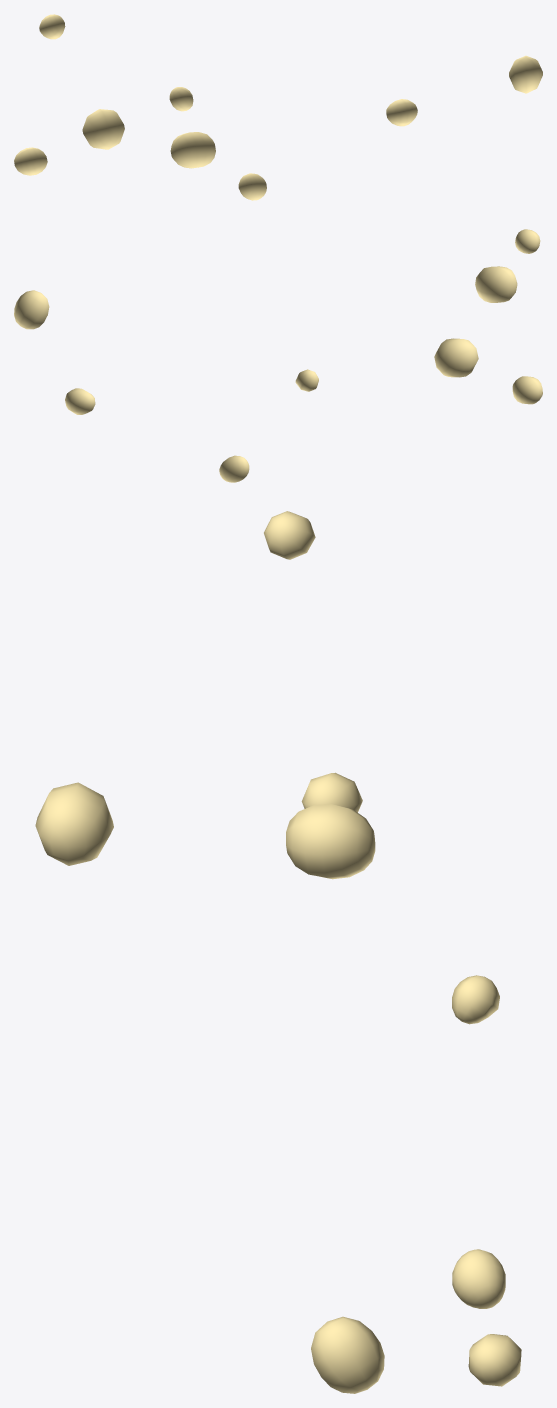
Rendered from Golgi_Apparatus_Vessicles.fbx.
3 renders of one model, top to bottom at view 1: azimuth 30°, elevation 25°; view 2: azimuth 150°, elevation 25°; view 3: azimuth 270°, elevation 25°, orthographic. The views are drawn at different scales.
Visible parts, largest first — view 1: Golgi_Apparatus_vessicle_4, Golgi_Apparatus_vessicle_7, Golgi_Apparatus_vessicle_2, Golgi_Apparatus_vessicle_6, Golgi_Apparatus_vessicle_3, Golgi_Apparatus_vessicle_1, Golgi_Apparatus_vessicle_8, Golgi_Apparatus_vessicle_5; view 2: Golgi_Apparatus_vessicle_7, Golgi_Apparatus_vessicle_4, Golgi_Apparatus_vessicle_2, Golgi_Apparatus_vessicle_6, Golgi_Apparatus_vessicle_1, Golgi_Apparatus_vessicle_3, Golgi_Apparatus_vessicle_8, Golgi_Apparatus_vessicle_5; view 3: Golgi_Apparatus_vessicle_7, Golgi_Apparatus_vessicle_4, Golgi_Apparatus_vessicle_2, Golgi_Apparatus_vessicle_1, Golgi_Apparatus_vessicle_3, Golgi_Apparatus_vessicle_8, Golgi_Apparatus_vessicle_5, Golgi_Apparatus_vessicle_6.
Boxes of the visible parts, x1,y1,x2,y2 form: Golgi_Apparatus_vessicle_4: [170, 132, 215, 168]; Golgi_Apparatus_vessicle_7: [82, 109, 124, 149]; Golgi_Apparatus_vessicle_2: [509, 55, 542, 93]; Golgi_Apparatus_vessicle_6: [14, 147, 47, 175]; Golgi_Apparatus_vessicle_3: [386, 99, 417, 126]; Golgi_Apparatus_vessicle_1: [238, 173, 266, 200]; Golgi_Apparatus_vessicle_8: [39, 14, 65, 39]; Golgi_Apparatus_vessicle_5: [169, 87, 193, 111]; Golgi_Apparatus_vessicle_7: [434, 338, 478, 377]; Golgi_Apparatus_vessicle_4: [475, 266, 517, 302]; Golgi_Apparatus_vessicle_2: [14, 290, 49, 329]; Golgi_Apparatus_vessicle_6: [512, 376, 542, 404]; Golgi_Apparatus_vessicle_1: [219, 455, 249, 482]; Golgi_Apparatus_vessicle_3: [65, 388, 95, 414]; Golgi_Apparatus_vessicle_8: [515, 229, 540, 253]; Golgi_Apparatus_vessicle_5: [295, 369, 318, 391]; Golgi_Apparatus_vessicle_7: [286, 804, 375, 879]; Golgi_Apparatus_vessicle_4: [35, 782, 113, 865]; Golgi_Apparatus_vessicle_2: [311, 1316, 384, 1393]; Golgi_Apparatus_vessicle_1: [452, 1249, 505, 1308]; Golgi_Apparatus_vessicle_3: [468, 1334, 521, 1386]; Golgi_Apparatus_vessicle_8: [264, 511, 315, 559]; Golgi_Apparatus_vessicle_5: [452, 975, 499, 1024]; Golgi_Apparatus_vessicle_6: [301, 772, 362, 812].
Bounding box in the file's own units: 1547 × 784 × 626.
